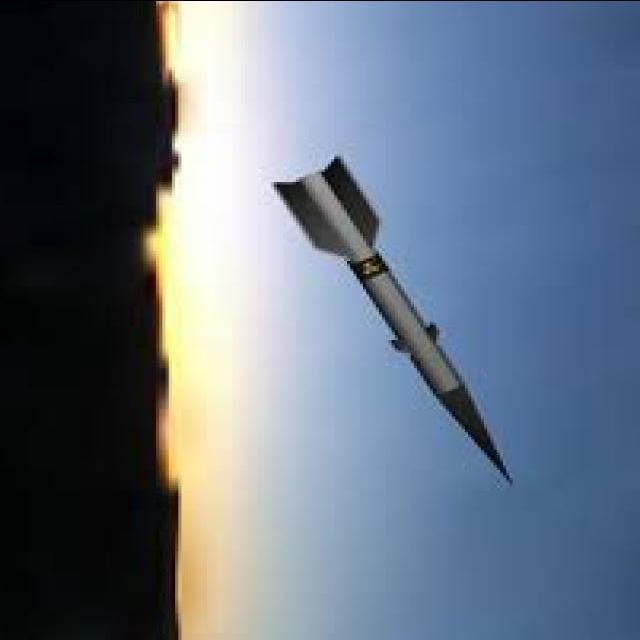Missile: (240, 169, 530, 490)
